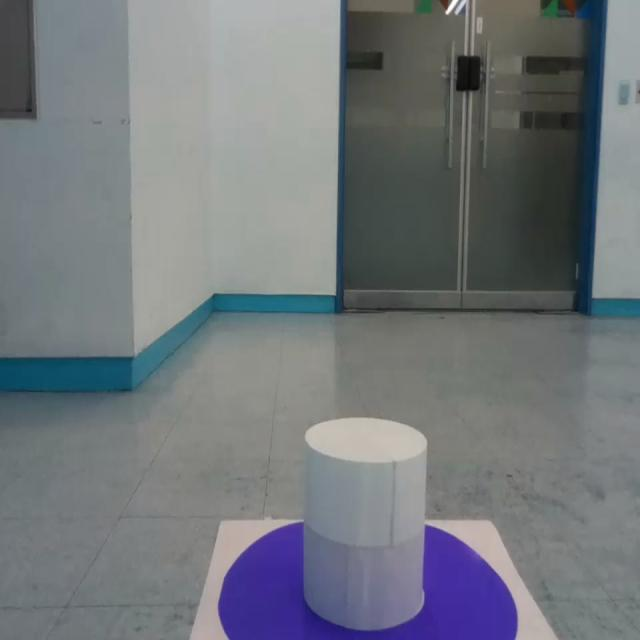cylinder: (301, 417, 428, 631)
